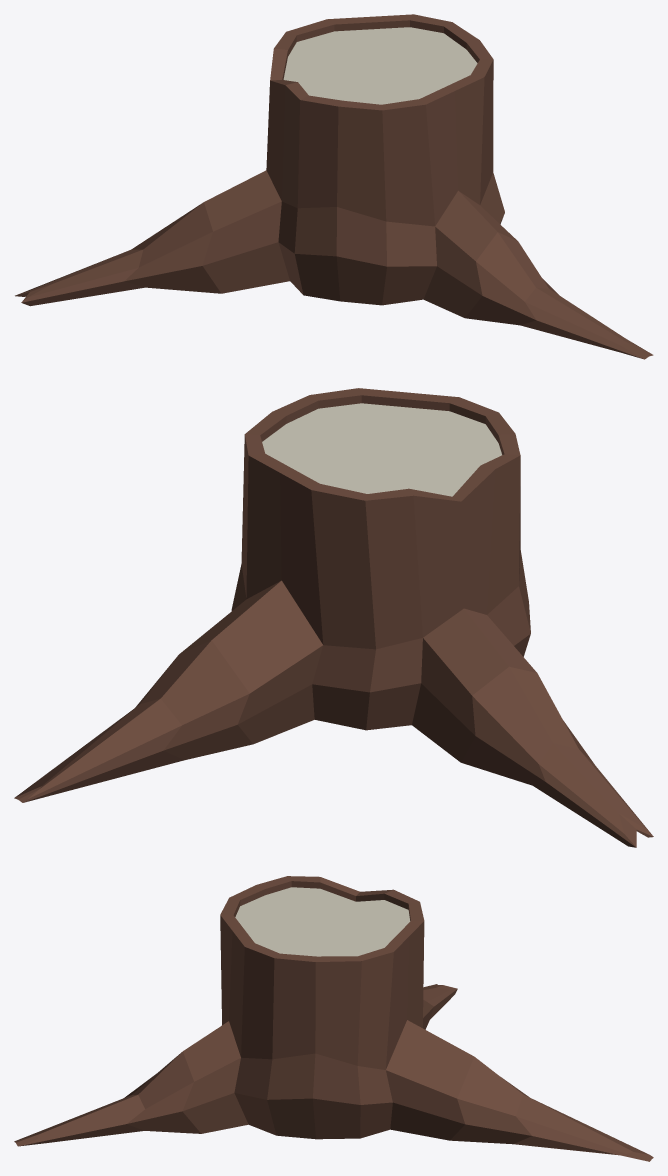
Rendered from TreeStomp.fbx.
3 views of the same model, one above another, from view 1: azimuth 30°, elevation 25°; view 2: azimuth 150°, elevation 25°; view 3: azimuth 270°, elevation 25° (orthographic). The views are drawn at different scales.
Parts seen in each view (by area): view 1: Cylinder.024, Cylinder.028; view 2: Cylinder.024, Cylinder.028; view 3: Cylinder.024, Cylinder.028.
Boxes of the visible parts, bbox=[...] form: Cylinder.024: bbox=[15, 14, 653, 359]; Cylinder.028: bbox=[283, 27, 477, 104]; Cylinder.024: bbox=[14, 388, 653, 847]; Cylinder.028: bbox=[262, 403, 501, 496]; Cylinder.024: bbox=[14, 876, 653, 1161]; Cylinder.028: bbox=[235, 887, 410, 956].
Size of the model in its own units: 133 by 65.83 by 190.
